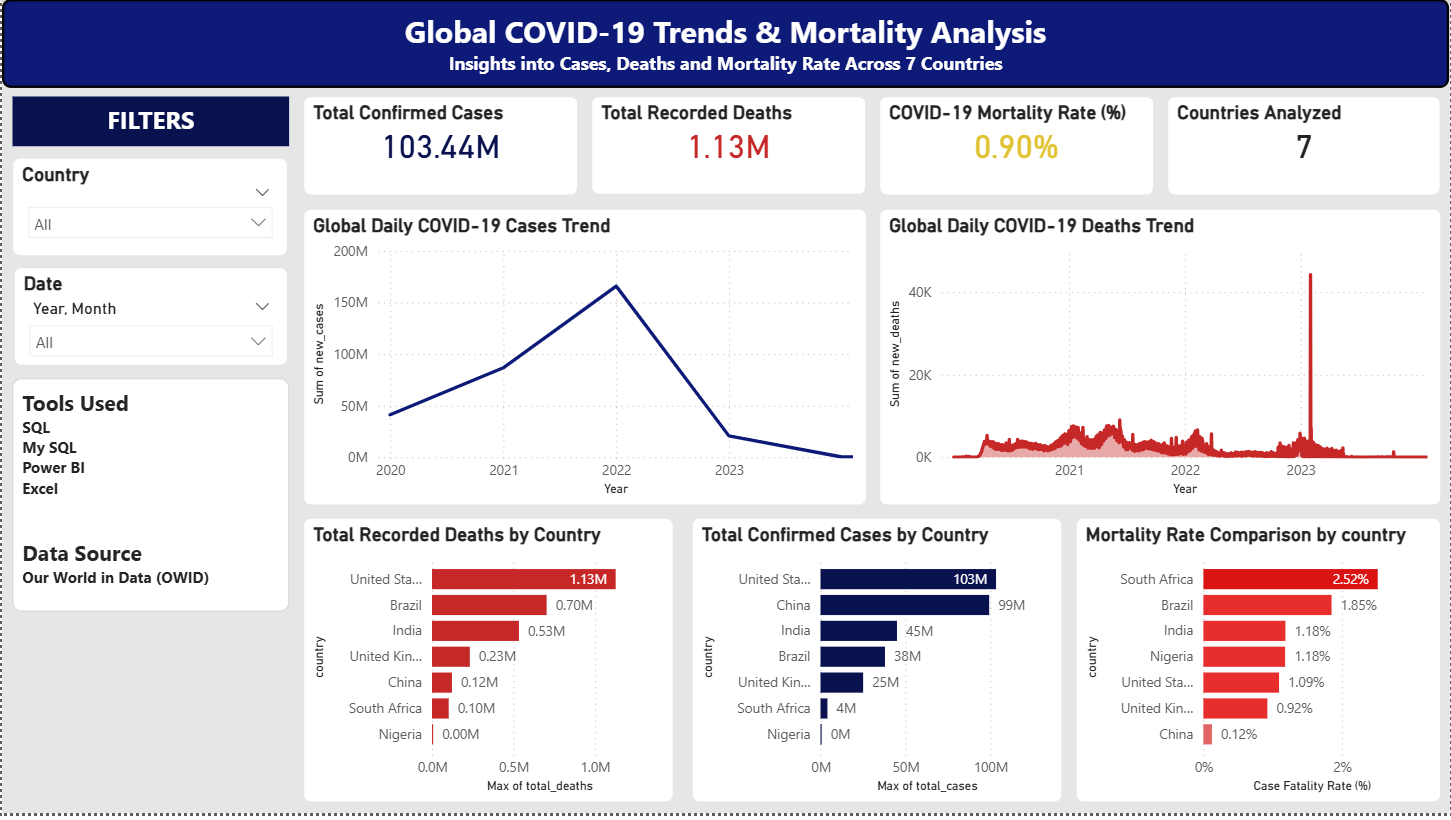

What the dashboard file says about the page in this screenshot:
{"tool":"powerbi","page":{"name":"Page 1","canvas":[1280,720],"ordinal":0},"visuals":[{"type":"textbox","box":[0,0,1279.5,78.7],"z":0},{"type":"card","title":"Total Confirmed Cases","fields":{"Values":["Max(covid_analysis covid_data.total_cases)"]},"box":[265,85,245,90],"z":1000},{"type":"card","title":"Total Recorded Deaths","fields":{"Values":["Max(covid_analysis covid_data.total_deaths)"]},"box":[520,85,245,89.6],"z":2000},{"type":"card","title":"COVID-19 Mortality Rate (%)","fields":{"Values":["covid_data.Case Fatality Rate (%)"]},"box":[775,85,245,90],"z":3000},{"type":"card","title":"Countries Analyzed","fields":{"Values":["Count(covid_analysis covid_data.country)"]},"box":[1030,85,244,90],"z":4000},{"type":"lineChart","title":"Global Daily COVID-19 Cases Trend","fields":{"Y":["Sum(covid_data.new_cases)"],"Category":["covid_data.date.Variation.Date Hierarchy.Year","covid_data.date.Variation.Date Hierarchy.Month"]},"box":[265.3,184.7,500.5,260.5],"z":5000},{"type":"lineChart","title":"Global Daily COVID-19 Deaths Trend","fields":{"Category":["covid_data.date"],"Y":["Sum(covid_data.new_deaths)"]},"box":[774.7,184.6,499.1,260.9],"z":6000},{"type":"clusteredBarChart","title":"Total Confirmed Cases by Country","fields":{"Category":["covid_data.country"],"Y":["Max(covid_data.total_cases)"]},"box":[609.5,457.9,330,254.2],"z":7000},{"type":"clusteredBarChart","title":"Total Recorded Deaths by Country","fields":{"Category":["covid_data.country"],"Y":["Max(covid_data.total_deaths)"]},"box":[265.3,457.9,330,254.2],"z":8000},{"type":"slicer","title":"Country","fields":{"Values":["covid_data.country"]},"box":[10,85,245,90],"z":9000},{"type":"clusteredBarChart","title":"Mortality Rate Comparison by country","fields":{"Y":["covid_data.Case Fatality Rate (%)"],"Category":["covid_data.country"]},"box":[949,457.9,325.3,254.2],"z":10000},{"type":"slicer","title":"Date","fields":{"Values":["covid_data.date.Variation.Date Hierarchy.Year","covid_data.date.Variation.Date Hierarchy.Month"]},"box":[9.5,184.7,244.7,90],"z":11000}]}

Visuals, with their boxes in screenshot pixels (x1, y1, x2, y2), scaled from the page's 1280x720 canvas onto the 1451x820 screenshot:
textbox: bbox=[0, 0, 1450, 90]
"Total Confirmed Cases" card: bbox=[300, 97, 578, 199]
"Total Recorded Deaths" card: bbox=[589, 97, 867, 199]
"COVID-19 Mortality Rate (%)" card: bbox=[879, 97, 1156, 199]
"Countries Analyzed" card: bbox=[1168, 97, 1444, 199]
"Global Daily COVID-19 Cases Trend" lineChart: bbox=[301, 210, 868, 507]
"Global Daily COVID-19 Deaths Trend" lineChart: bbox=[878, 210, 1444, 507]
"Total Confirmed Cases by Country" clusteredBarChart: bbox=[691, 521, 1065, 811]
"Total Recorded Deaths by Country" clusteredBarChart: bbox=[301, 521, 675, 811]
"Country" slicer: bbox=[11, 97, 289, 199]
"Mortality Rate Comparison by country" clusteredBarChart: bbox=[1076, 521, 1445, 811]
"Date" slicer: bbox=[11, 210, 288, 313]
